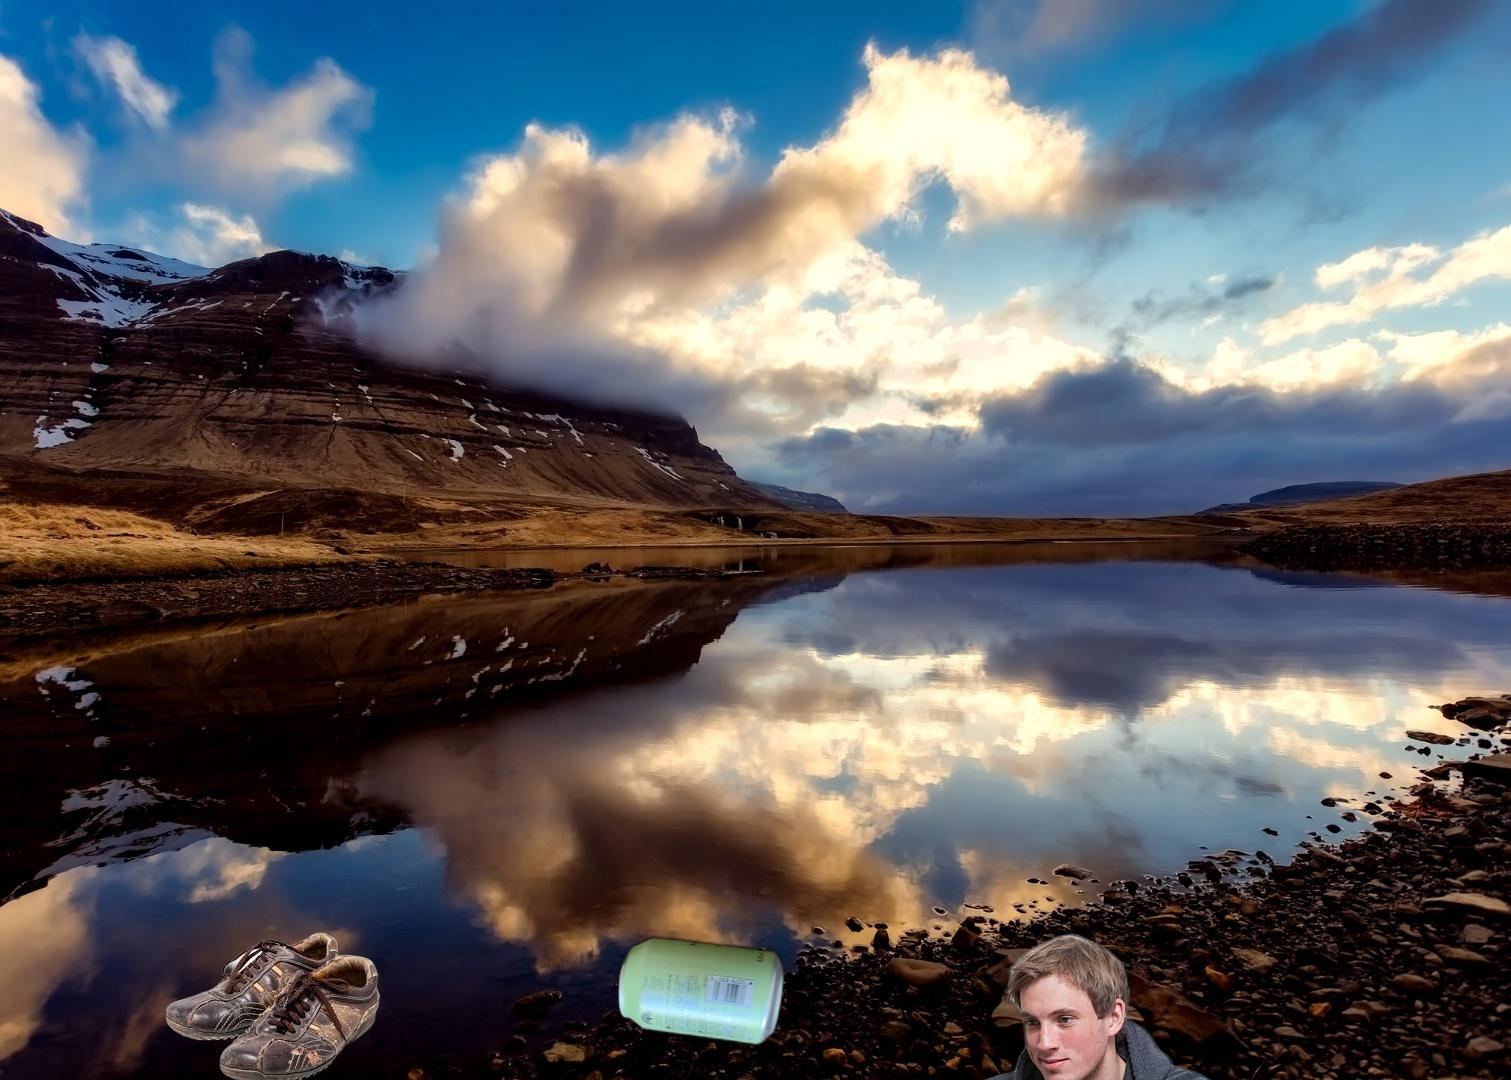metal-cans: (614, 932, 789, 1052)
shoes: (162, 929, 382, 1080)
trashbox-cardboard: (931, 928, 1377, 1080)
